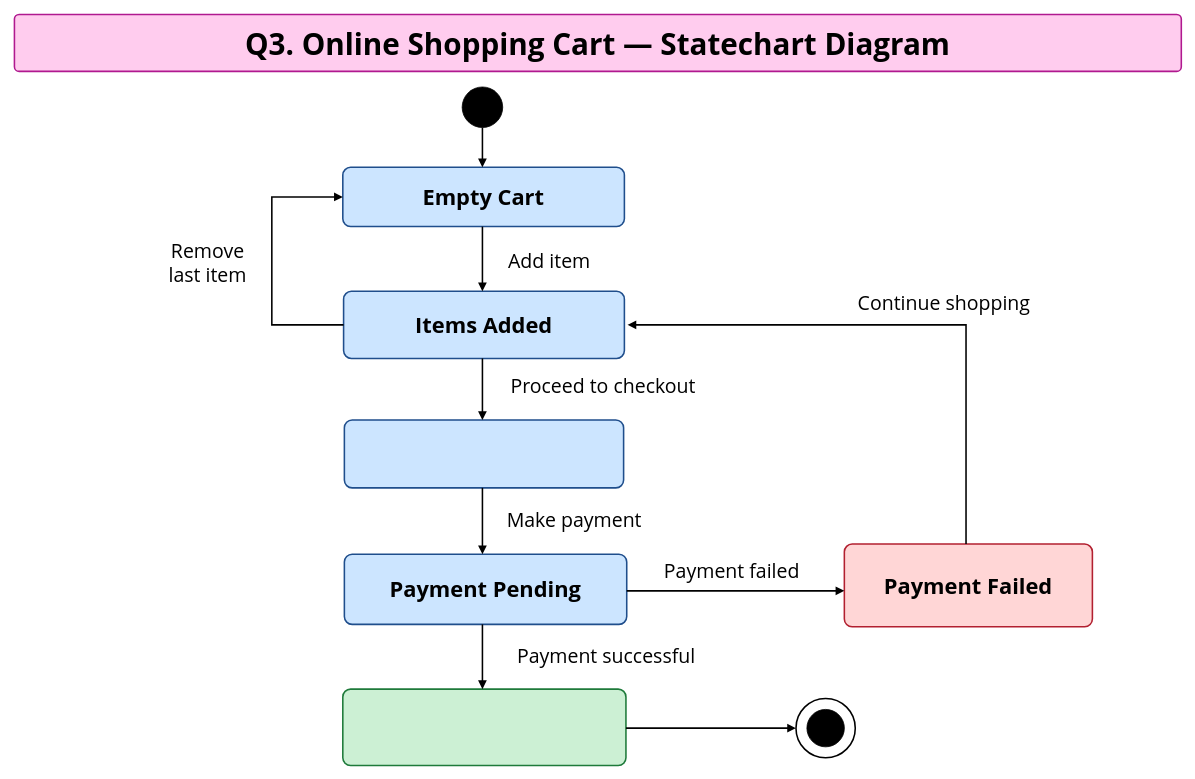
The diagram is 1195 pixels wide and 779 high, and some of its shapes have lost their labels. Each missing label, with the box of its shape:
Checkout: (343, 419, 624, 488)
Order Placed: (342, 688, 626, 766)
